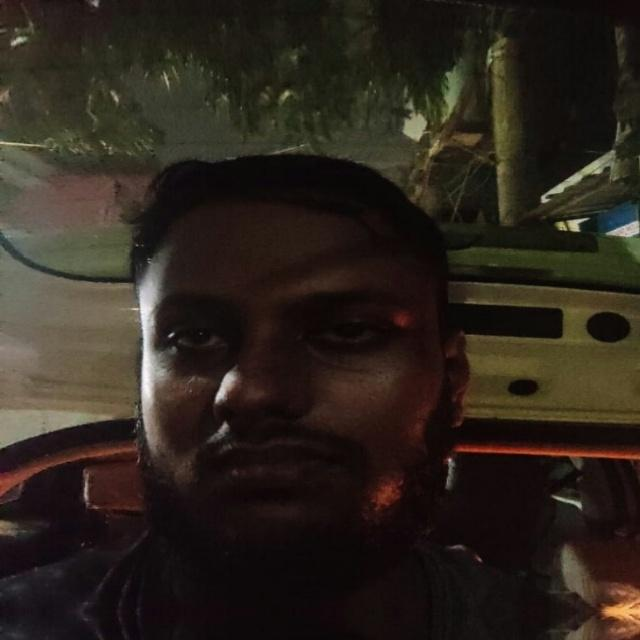Sad: (100, 130, 514, 602)
